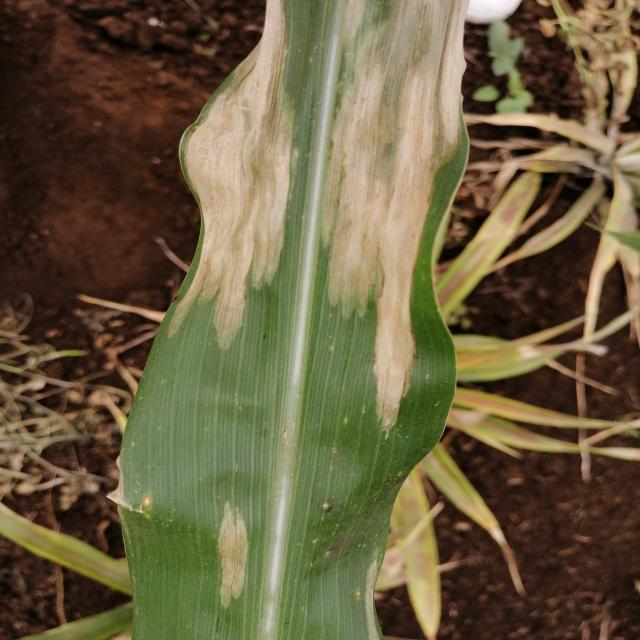Corn_Leaf_Blight: (153, 0, 470, 474)
